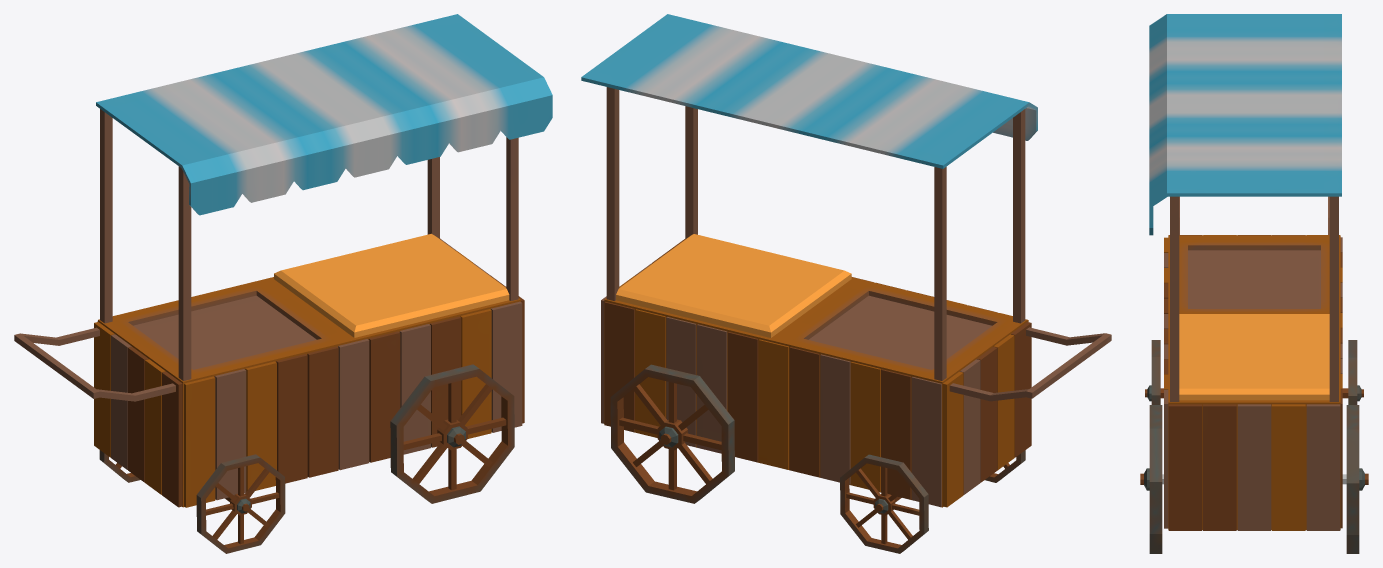
The model's file is kit-food-cart.glb.
The picture shows the model from 3 angles, left to right: view 1: azimuth 30°, elevation 25°; view 2: azimuth 150°, elevation 25°; view 3: azimuth 270°, elevation 25°; orthographic projection.
Visible parts, largest first — view 1: Cube.351; view 2: Cube.351; view 3: Cube.351.
Boxes of the visible parts, box(x1,y1,x2,y2) form: Cube.351: box(14, 14, 552, 553); Cube.351: box(581, 14, 1111, 553); Cube.351: box(1140, 14, 1368, 553).
Bounding box in the file's own units: 2.01 × 1.68 × 0.8742.
1 material, 1 textured.
